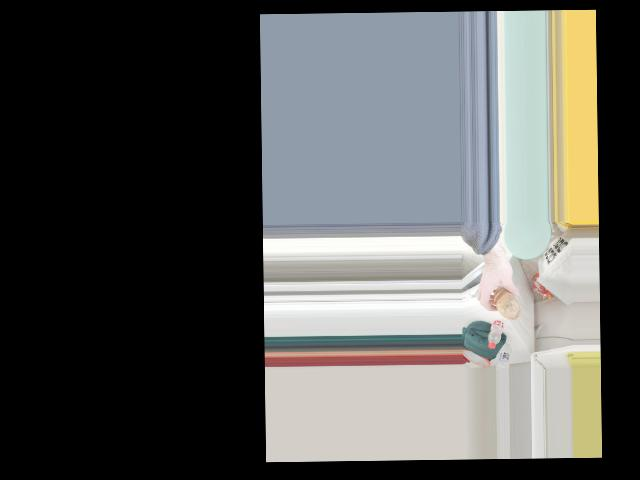sweet_potato: (491, 285, 520, 320)
